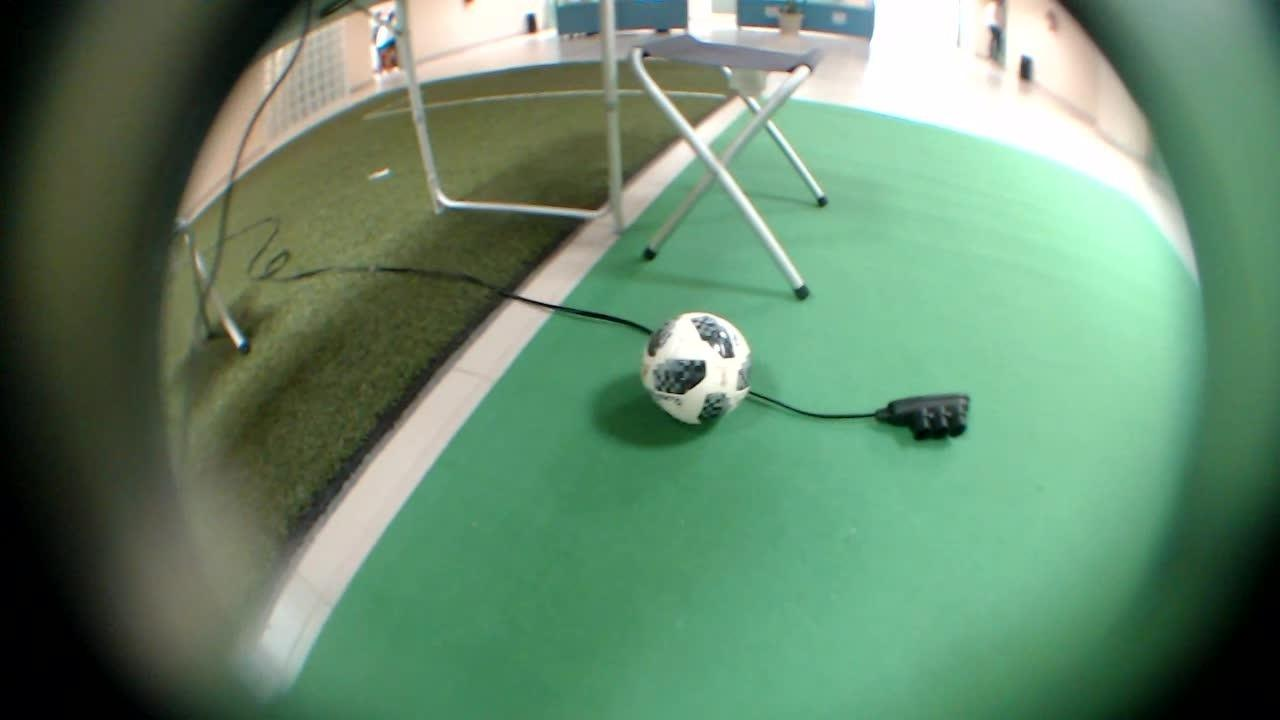ball: (635, 286, 763, 447)
